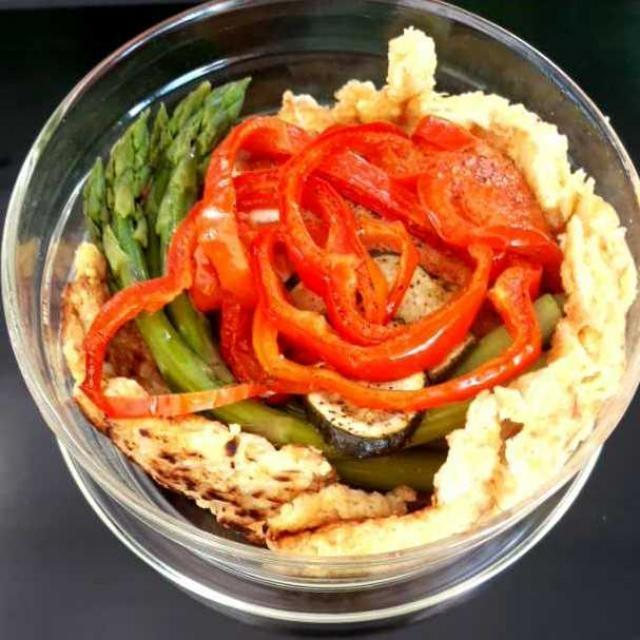asparagus: (98, 74, 553, 496)
bell-pepper: (58, 99, 545, 456)
